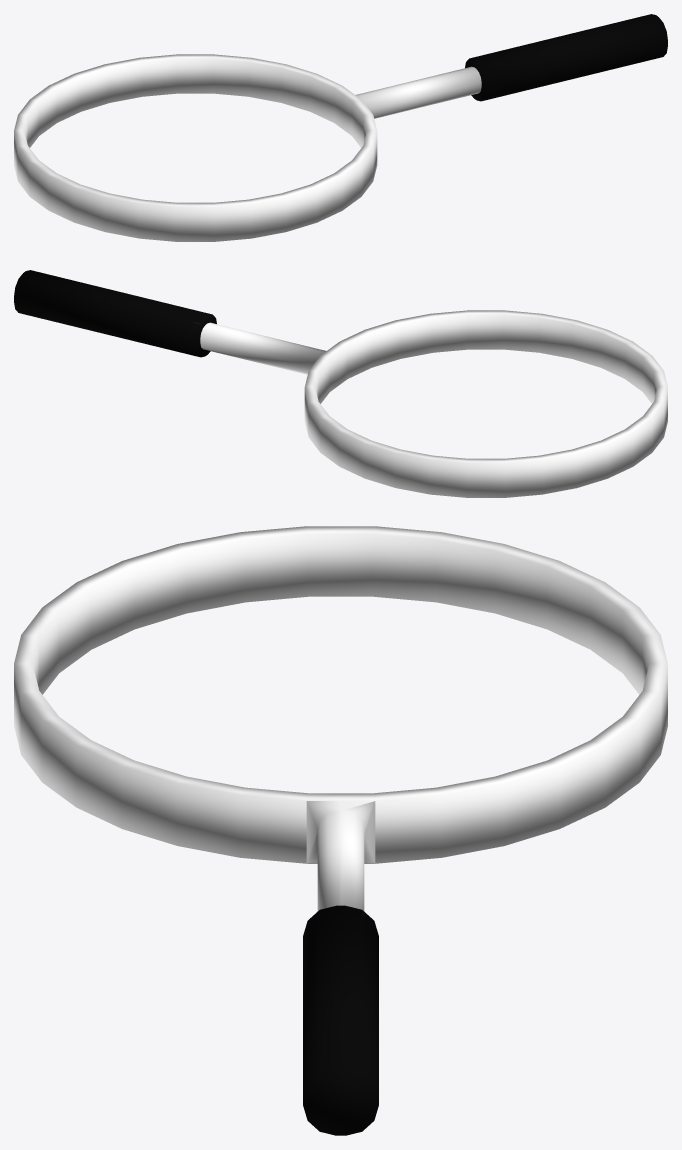
File: Magnifying Glass.fbx
The picture shows the model from 3 angles, top to bottom: view 1: azimuth 30°, elevation 25°; view 2: azimuth 150°, elevation 25°; view 3: azimuth 270°, elevation 25°; orthographic projection. The views are drawn at different scales.
Parts seen in each view (by area): view 1: Magnifying Glass; view 2: Magnifying Glass; view 3: Magnifying Glass.
Boxes of the visible parts, left/top/right/bottom form: Magnifying Glass: left=14, top=14, right=667, bottom=241; Magnifying Glass: left=14, top=270, right=667, bottom=497; Magnifying Glass: left=14, top=526, right=667, bottom=1135.
Bounding box in the file's own units: 417 × 24.99 × 212.
